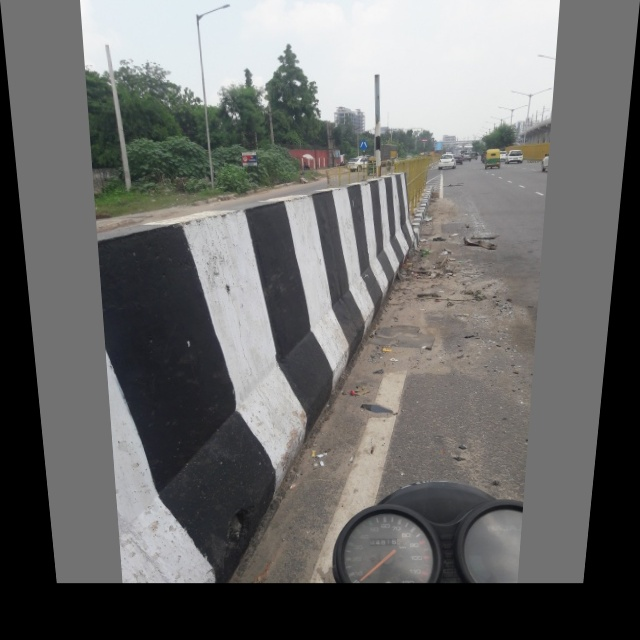Pass_Either_Side: (357, 136, 366, 148)
